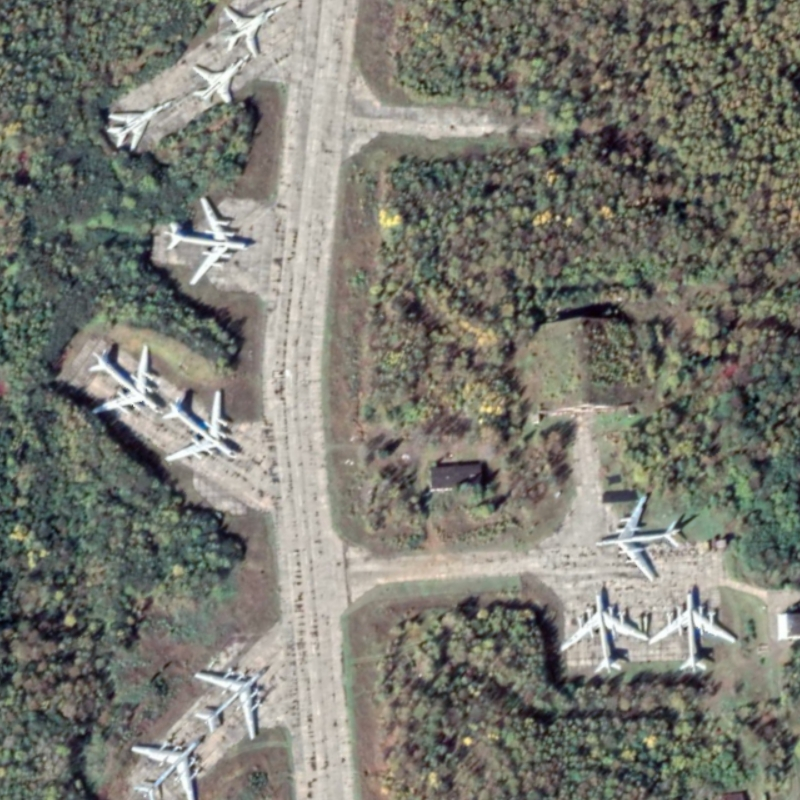A12: (102, 93, 177, 156), (220, 1, 291, 58), (186, 51, 254, 107)
A17: (590, 488, 690, 581), (555, 584, 652, 676), (159, 194, 253, 286), (648, 584, 740, 675), (159, 383, 242, 467), (85, 339, 164, 425), (190, 660, 268, 742), (129, 733, 209, 800)
